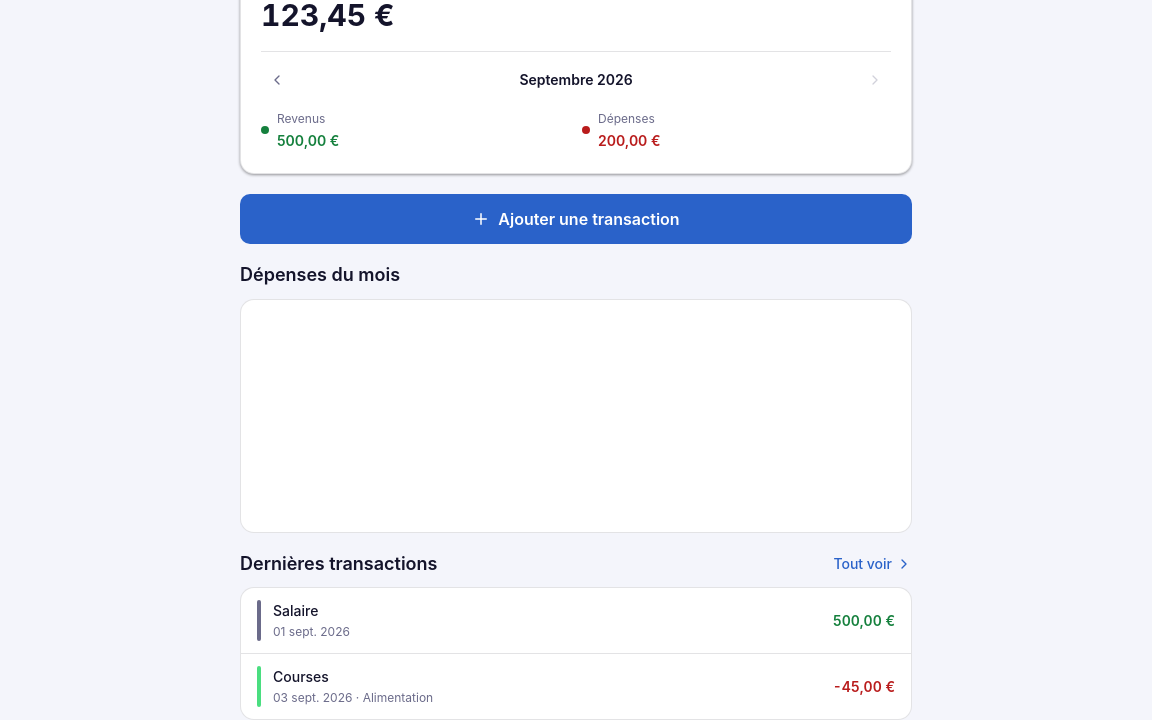
Test: HomePage › toucher une transaction récente ouvre la modale préremplie
Click the button "Courses 03 sept. 2026 · Alimentation -45,00 €" at (301, 676), box [241,654,911,719]
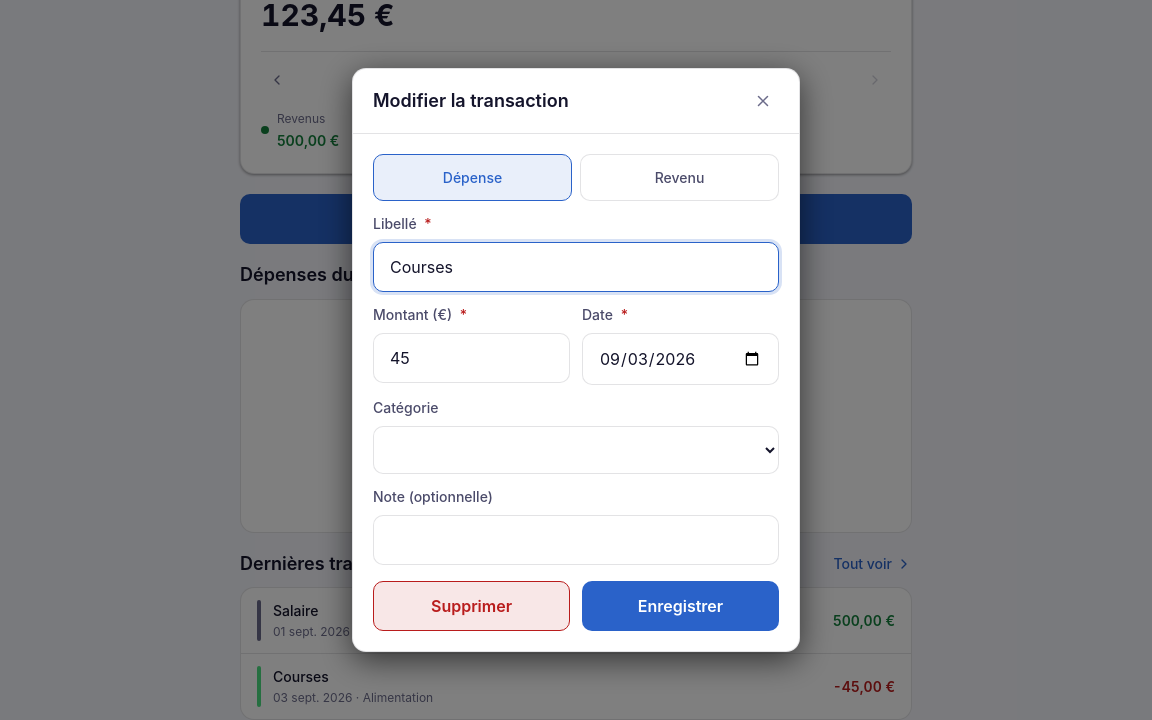
Expected: the dialog shows "Modifier la transaction", [373,90,569,111]
Expected: the field with id "transaction-title" holds "Courses", [373,242,779,292]
